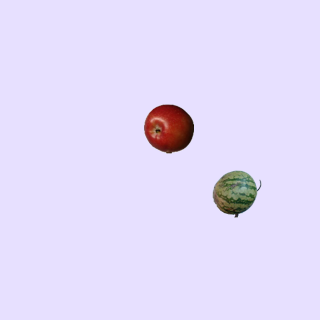Apple Braeburn: (143, 103, 193, 153)
Watermelon: (211, 168, 261, 218)
